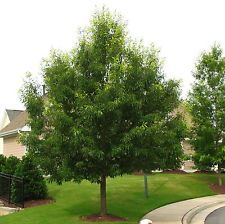tree: (39, 3, 186, 216)
